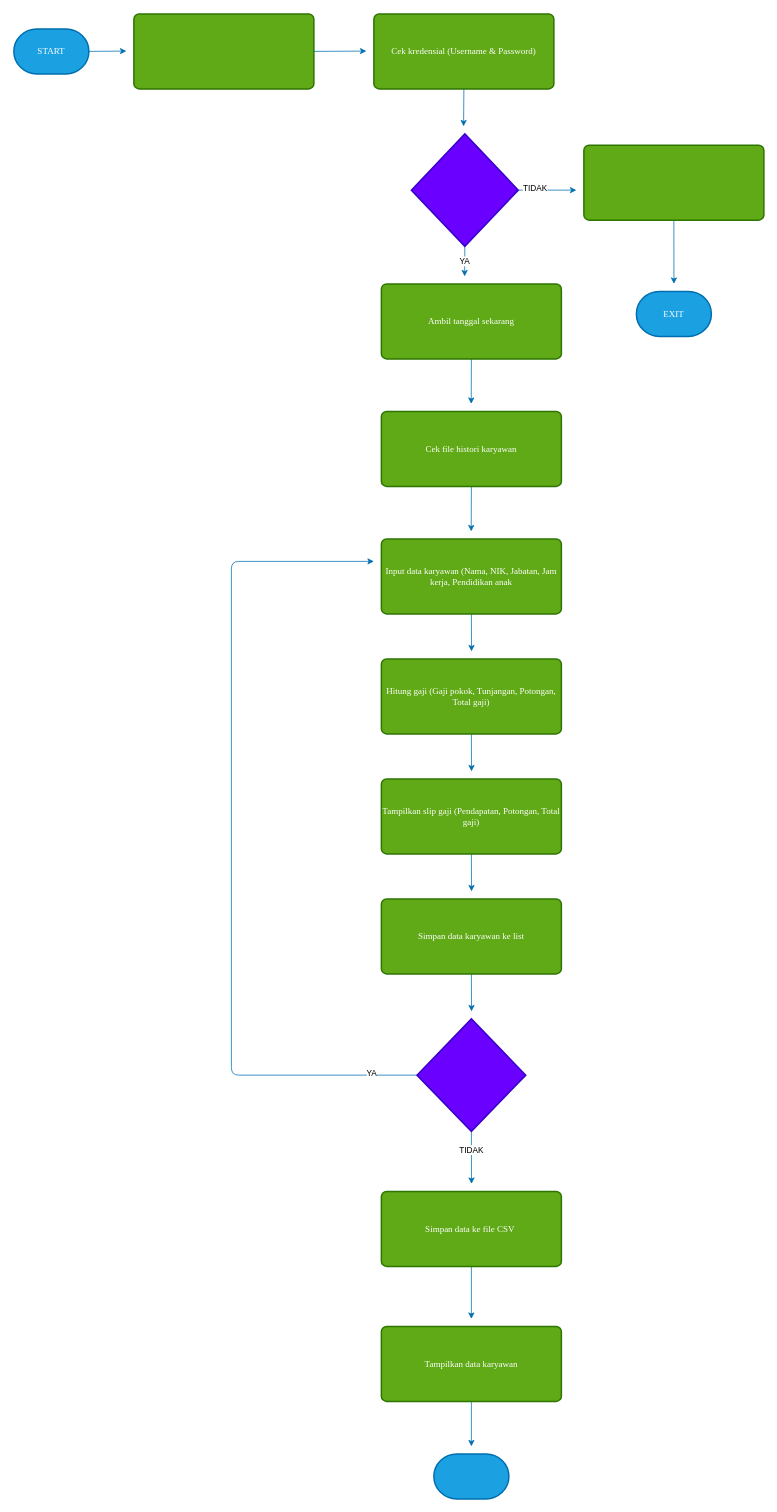
Image size: 777x1512. Some labels were removed from this diagram. The centre of each missing label's shape, as x and y in pixels:
"Apakah input data karyawan lain" goes at (x=471, y=1075).
"END" goes at (x=471, y=1476).
"Fungsi Login (Input Username dan Password)" goes at (x=223, y=51).
"Login Berhasil ?" goes at (x=464, y=190).
"Tampilkan akses ditolak" goes at (x=673, y=182).
